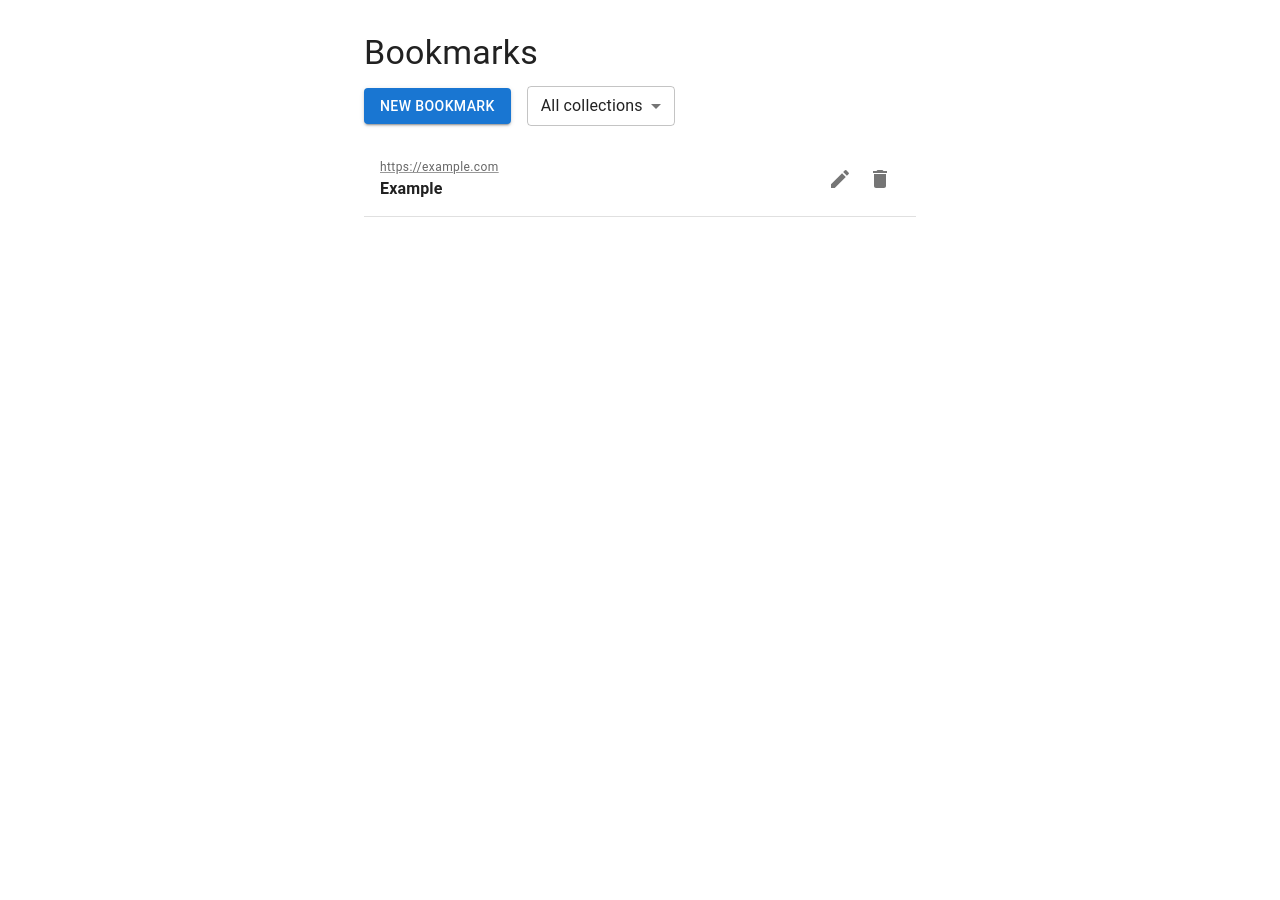
Test case: Bookmarks — delete › deletes a bookmark after confirmation
expect the heading "Example" is shown: met, box top-left (380, 179), bottom-right (442, 198)
Click the button named "delete example" at x=880, y=179, box top-left (860, 159), bottom-right (900, 199)
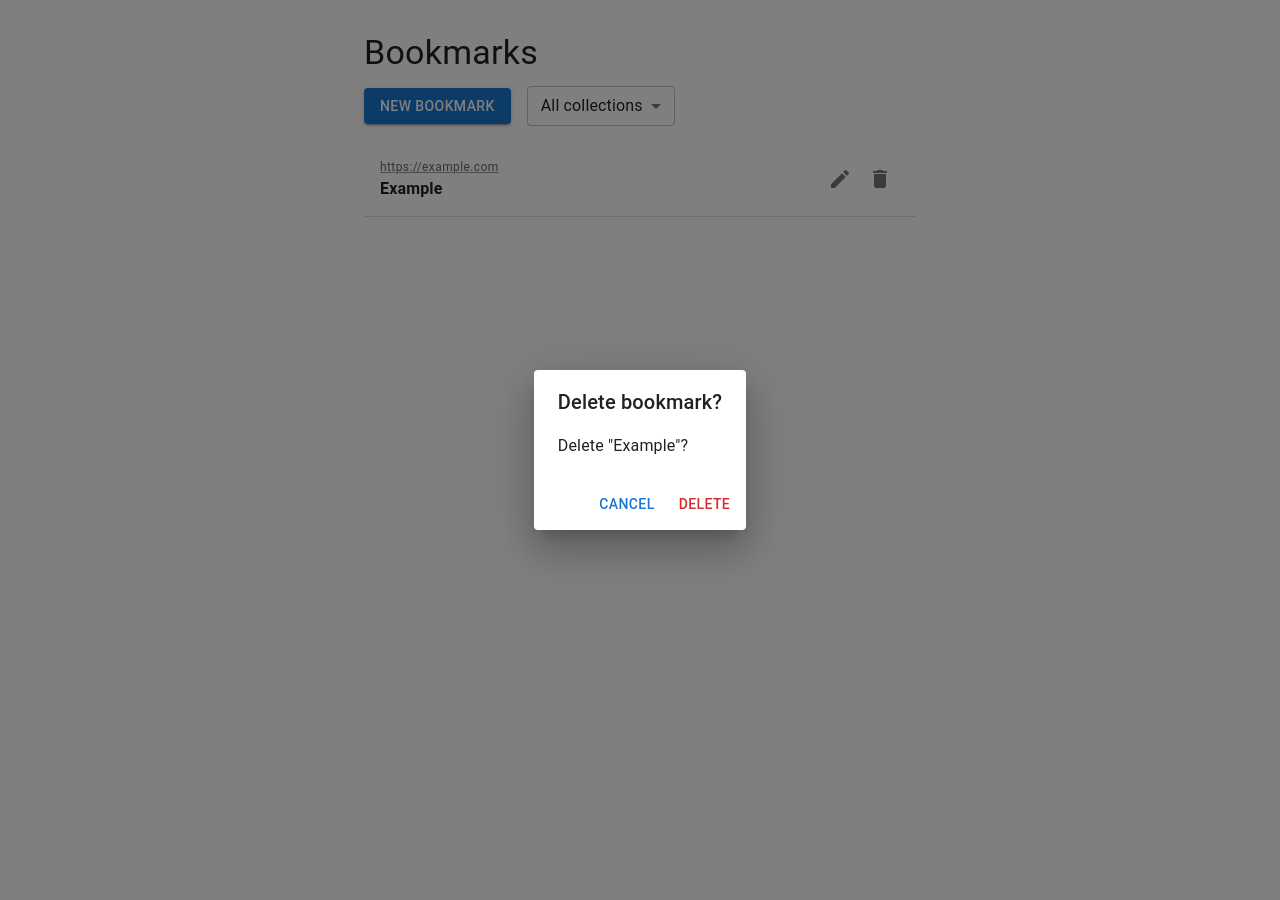
Click the button "Delete" at x=704, y=504, box top-left (671, 486), bottom-right (738, 522)
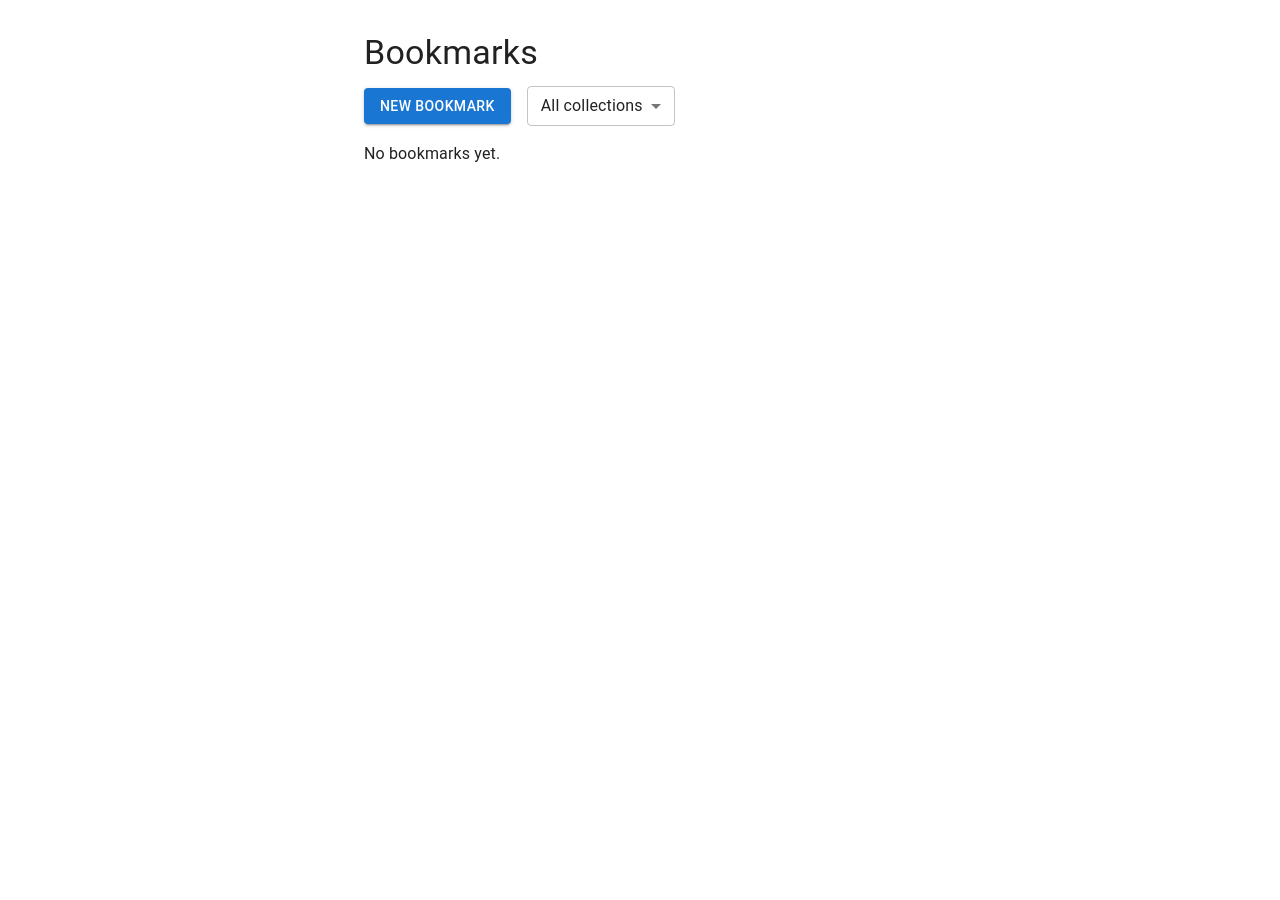
expect the text "No bookmarks yet." is shown: met, box top-left (364, 144), bottom-right (500, 163)
